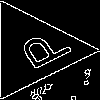P: (8, 25, 74, 77)
